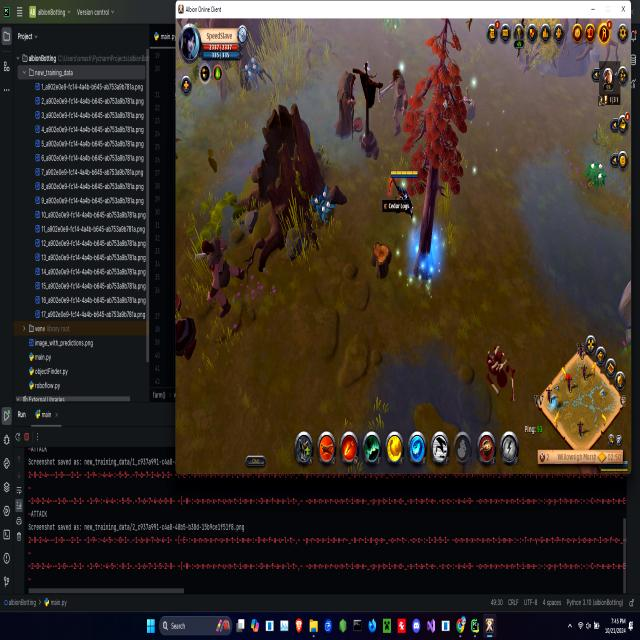hide: (310, 181, 336, 226), (584, 157, 608, 197), (242, 55, 264, 95)
ore: (191, 236, 247, 324), (379, 60, 414, 141), (332, 67, 363, 150)
red: (387, 162, 417, 226)
wisp caged: (406, 19, 471, 285)
